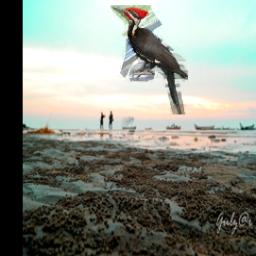Woodpecker: (111, 6, 188, 116)
